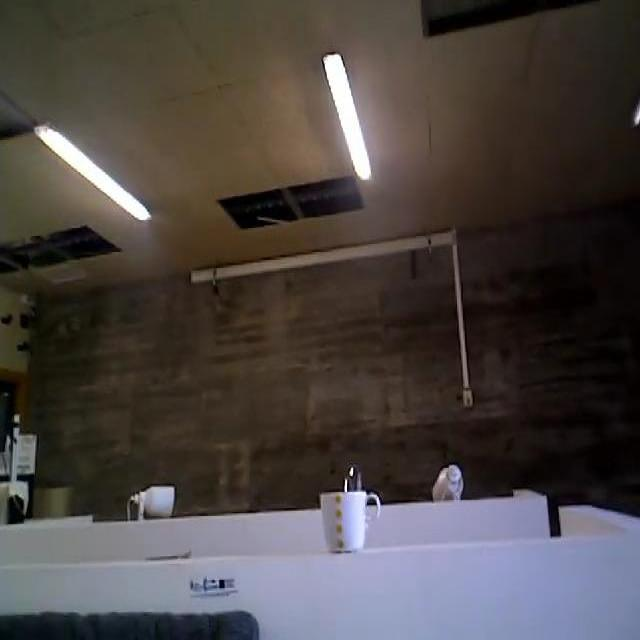cup: (318, 489, 383, 555)
